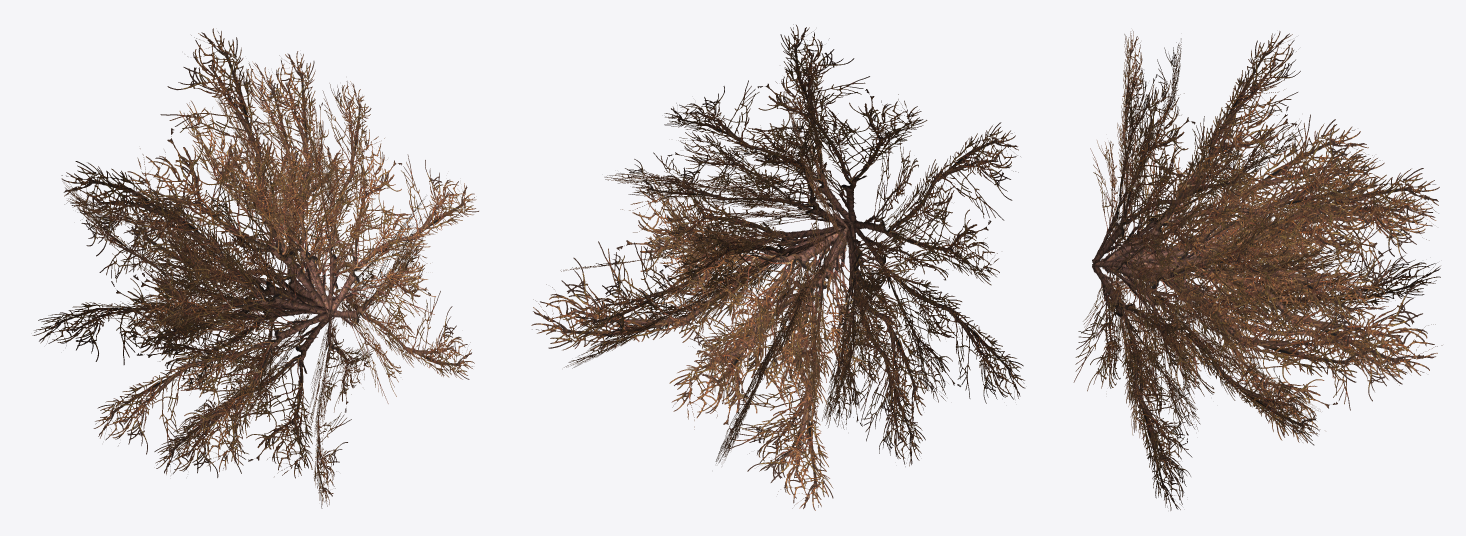
Rendered from kucao.FBX.
The picture shows the model from 3 angles, left to right: view 1: azimuth 30°, elevation 25°; view 2: azimuth 150°, elevation 25°; view 3: azimuth 270°, elevation 25°; orthographic projection.
Visible parts, largest first — view 1: Mesh_0044; view 2: Mesh_0044; view 3: Mesh_0044.
Boxes of the visible parts, <box> form: Mesh_0044: <box>32,28,478,508</box>; Mesh_0044: <box>531,24,1025,510</box>; Mesh_0044: <box>1073,30,1442,510</box>.
Size of the model in its own units: 1.94 by 2.07 by 1.51.
Materials: 1 (1 with a texture image).
